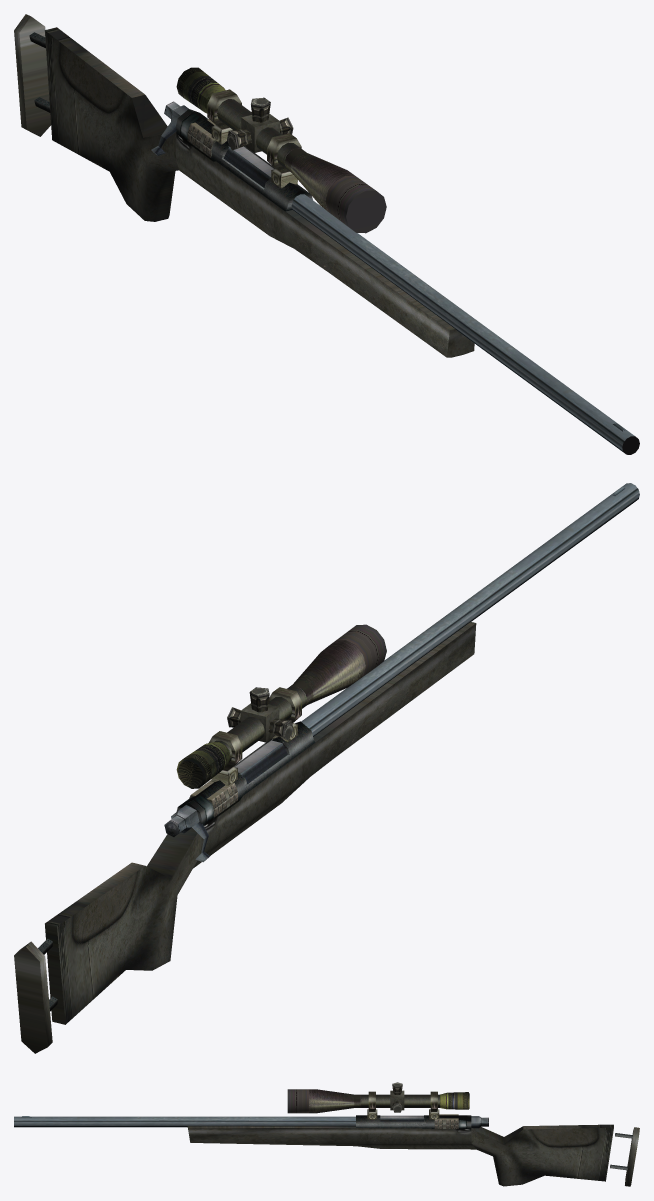
3 views of the same model, one above another, from view 1: azimuth 30°, elevation 25°; view 2: azimuth 150°, elevation 25°; view 3: azimuth 270°, elevation 25° (orthographic). The views are drawn at different scales.
Visible parts, largest first — view 1: _m24_3rd; view 2: _m24_3rd; view 3: _m24_3rd.
Part boxes in pixels (x1,y1,x2,y2): _m24_3rd: (14,14,639,454); _m24_3rd: (14,483,639,1053); _m24_3rd: (14,1082,639,1186).
Bounding box in the file's own units: 0.0851 × 0.2847 × 1.58.
2 materials, 2 textured.
